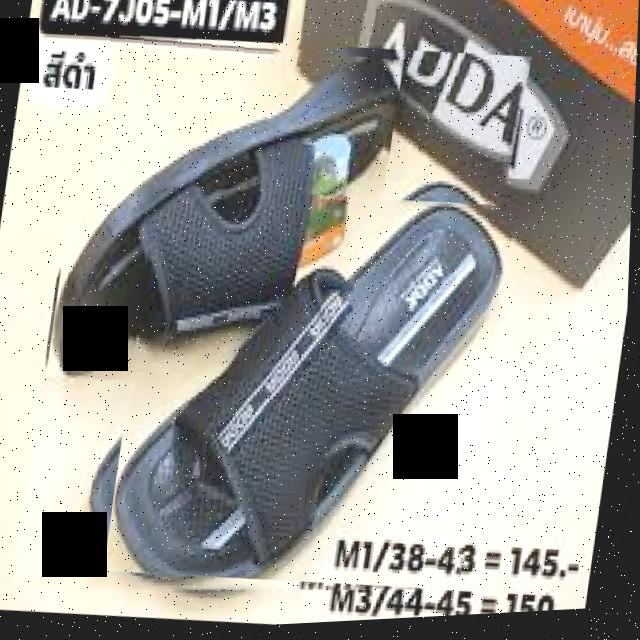shoe: (16, 16, 535, 638), (106, 172, 519, 610), (48, 22, 406, 410)
